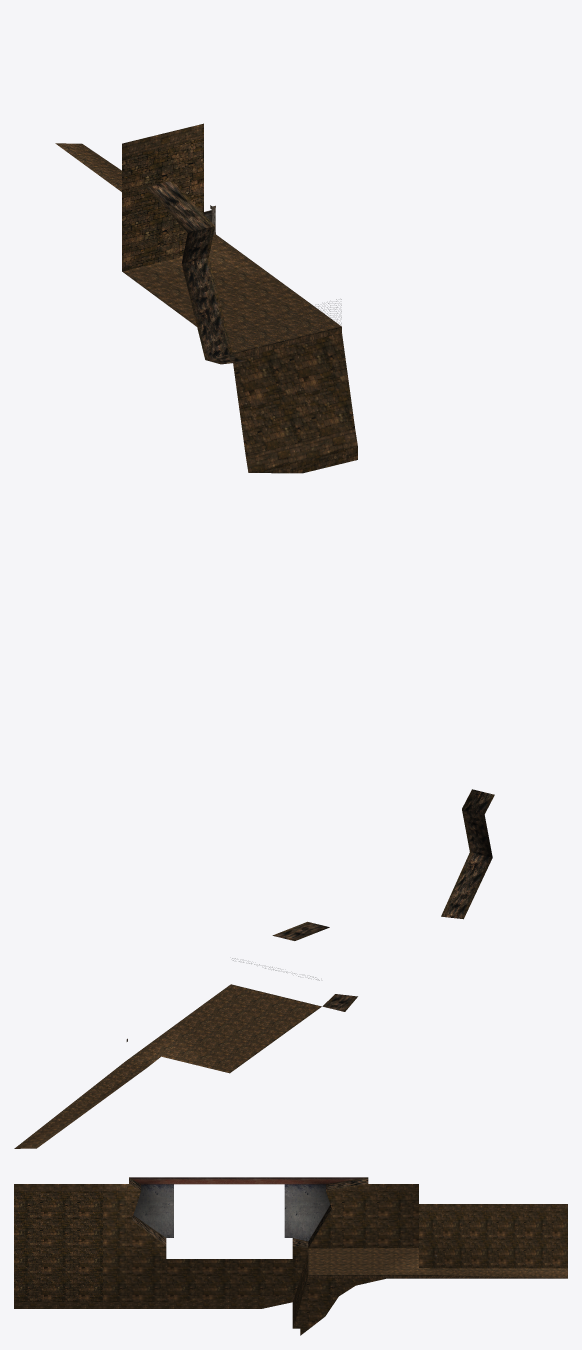
The model's file is M10_Z01_04_BigWall.glb.
The picture shows the model from 3 angles, top to bottom: view 1: azimuth 30°, elevation 25°; view 2: azimuth 150°, elevation 25°; view 3: azimuth 270°, elevation 25°; orthographic projection. The views are drawn at different scales.
Visible parts, largest first — view 1: M10_Z01_04_BIGWALL; view 2: M10_Z01_04_BIGWALL; view 3: M10_Z01_04_BIGWALL.
Part boxes in pixels (left/top/right/bottom): M10_Z01_04_BIGWALL: left=55, top=123, right=357, bottom=473; M10_Z01_04_BIGWALL: left=14, top=789, right=494, bottom=1148; M10_Z01_04_BIGWALL: left=14, top=1177, right=567, bottom=1335.
Bounding box in the file's own units: 10.13 × 17.5 × 70.15.
Materials: 9 (9 with a texture image).
